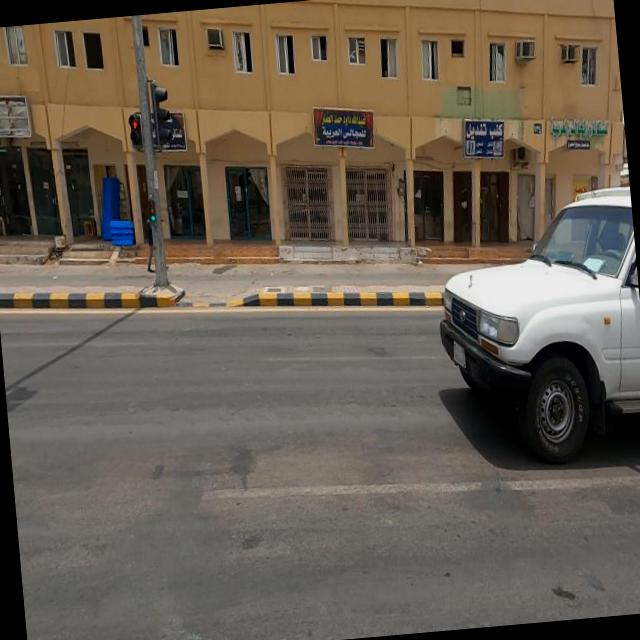debris: (0, 50, 70, 184)
